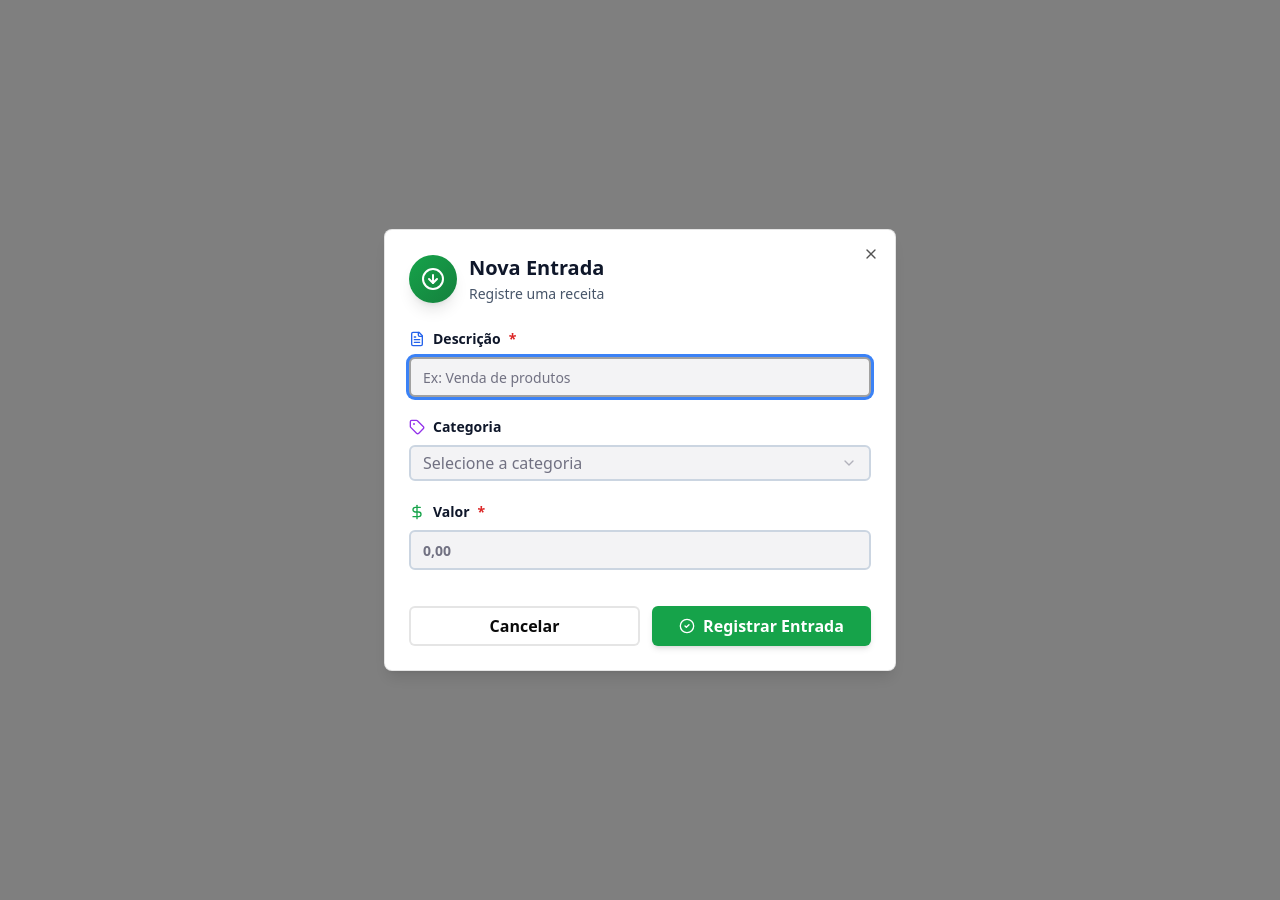
Test: 5. Estados de loading › deve desabilitar formulários durante submissão
Type "Teste" into the field labelled "Descrição *" at [640, 377], box [409,357,871,397]
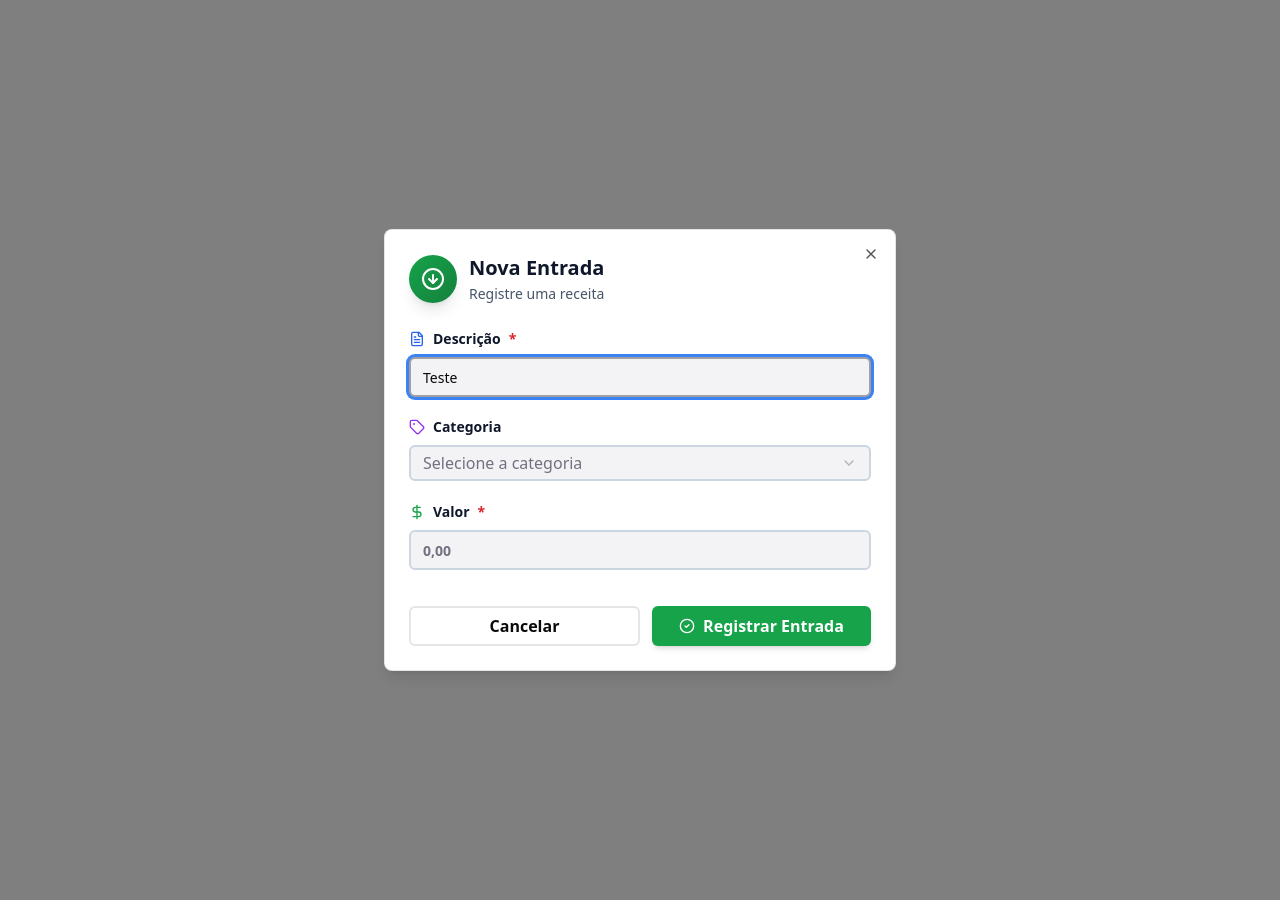
Type "100" into the field labelled "Valor *" at [640, 550], box [409,530,871,570]
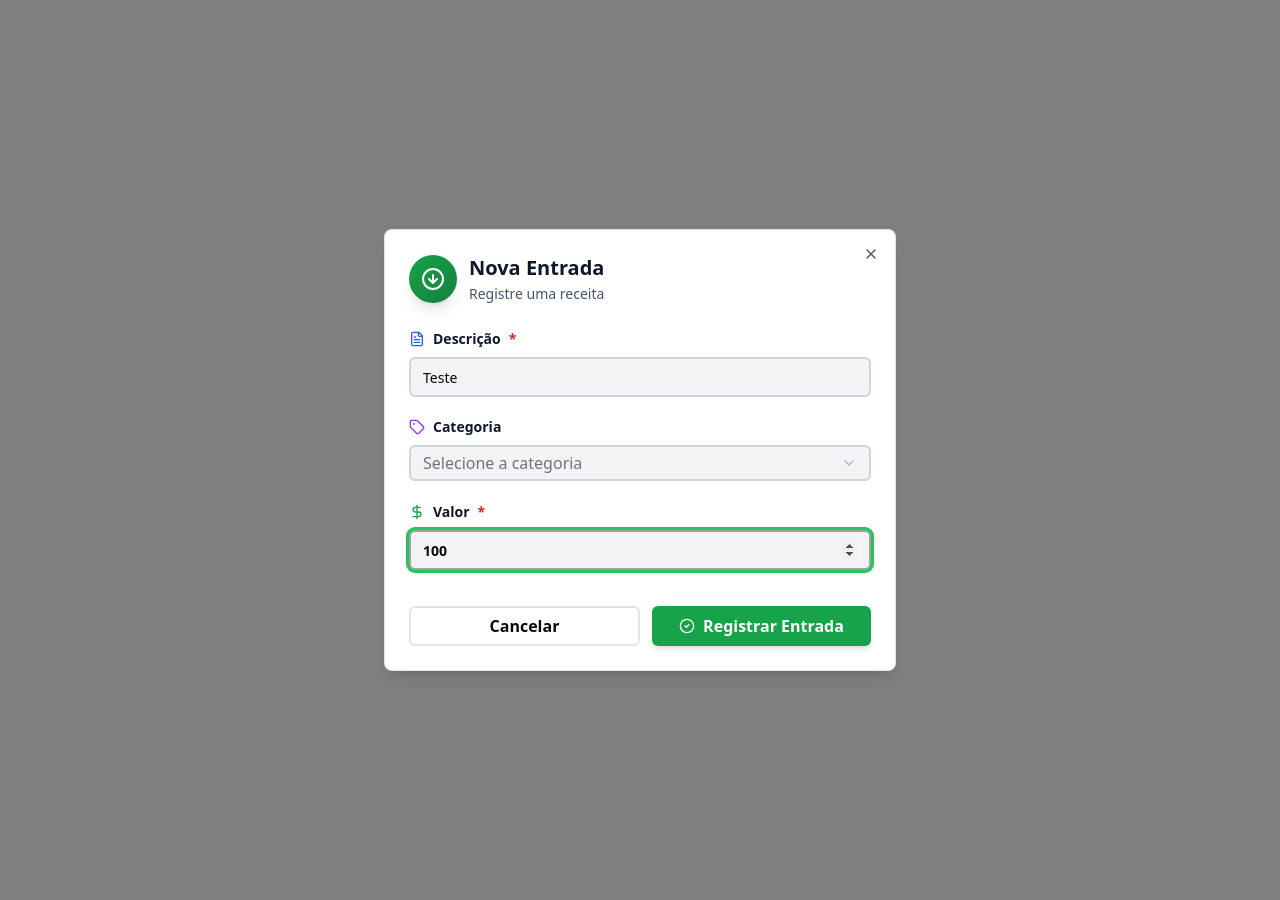
# Clicar em submit
Click the button with aria-label "salvar" at [762, 626], box [652,606,871,646]
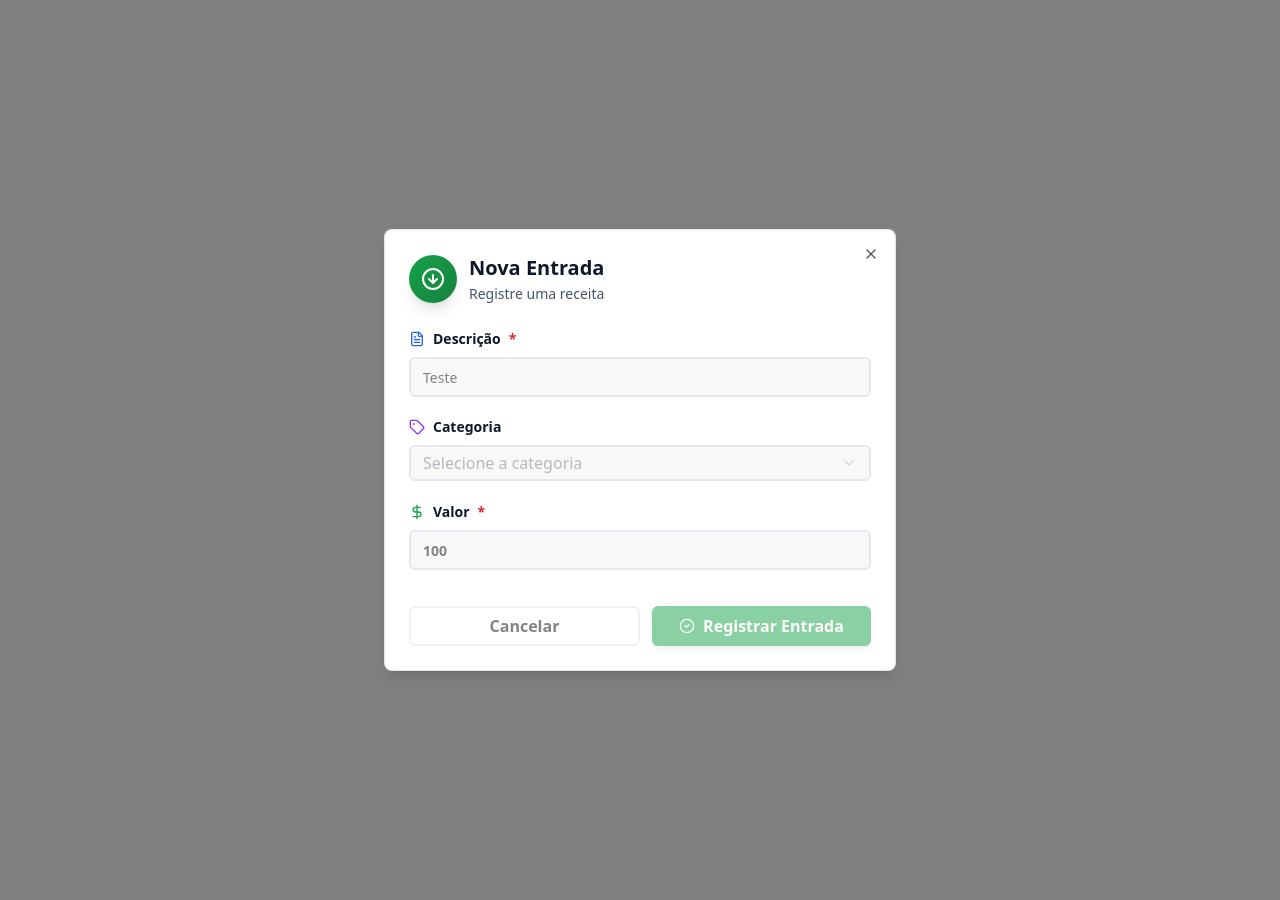
Expected: the button with aria-label "salvar" is disabled, [652,606,871,646]
